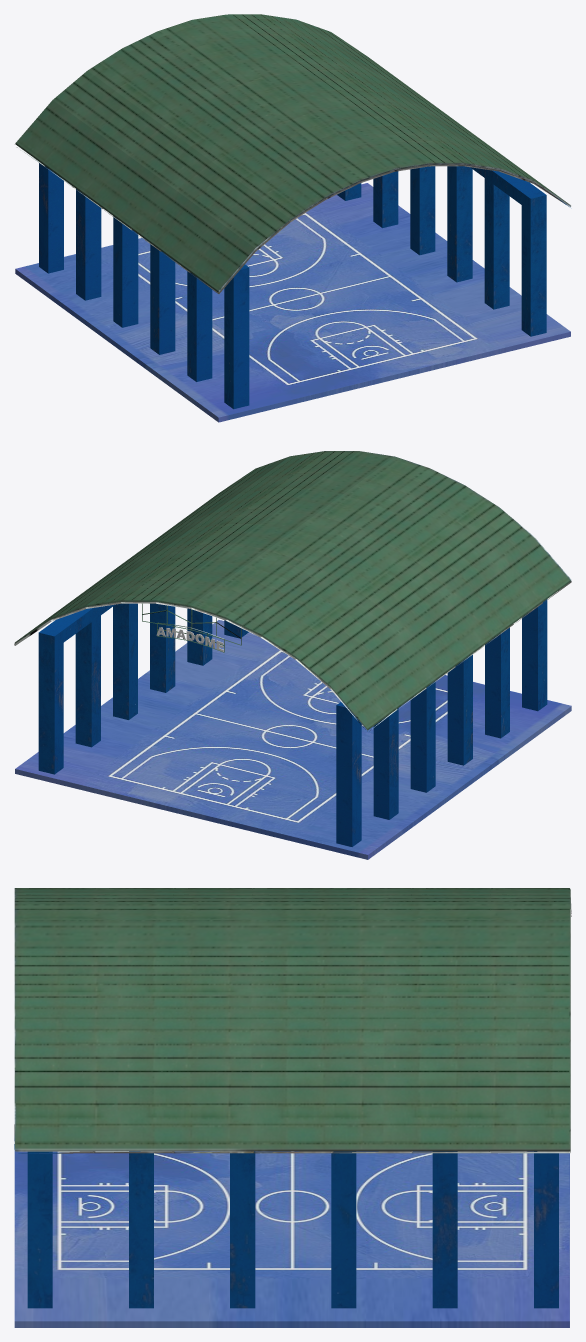
The model's file is Basketball Court.fbx.
3 renders of one model, top to bottom at view 1: azimuth 30°, elevation 25°; view 2: azimuth 150°, elevation 25°; view 3: azimuth 270°, elevation 25°, orthographic. The views are drawn at different scales.
Parts seen in each view (by area): view 1: Amadome, Court; view 2: Amadome, Court; view 3: Amadome, Court.
Part boxes in pixels (<box>): Amadome: <box>15,14,570,409</box>; Court: <box>15,183,570,422</box>; Amadome: <box>14,451,571,846</box>; Court: <box>15,620,571,859</box>; Amadome: <box>14,888,571,1308</box>; Court: <box>14,1150,569,1327</box>.
Bounding box in the file's own units: 602 × 343 × 603.
2 materials, 2 textured.
